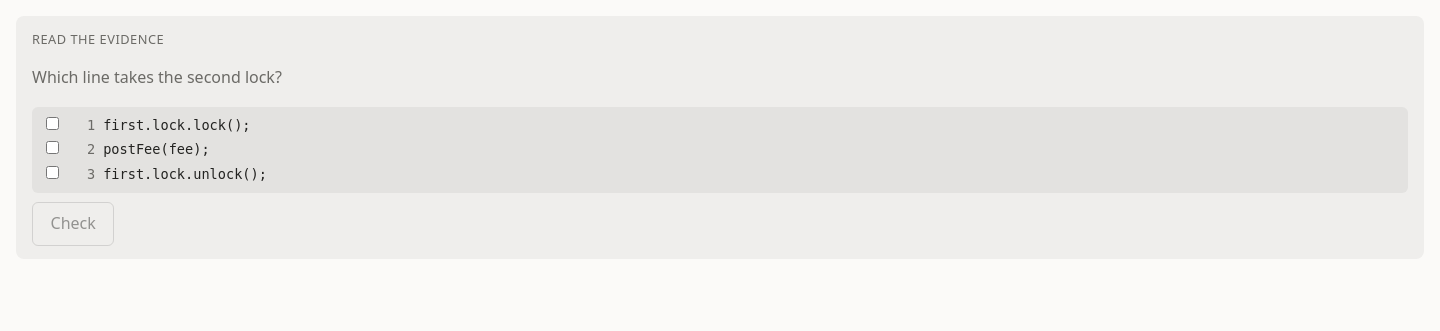
Scenario: marks the right selection and explains
Click the checkbox named "Line 2: postFee(fee);".
click(52, 148)  # box [46, 141, 59, 154]
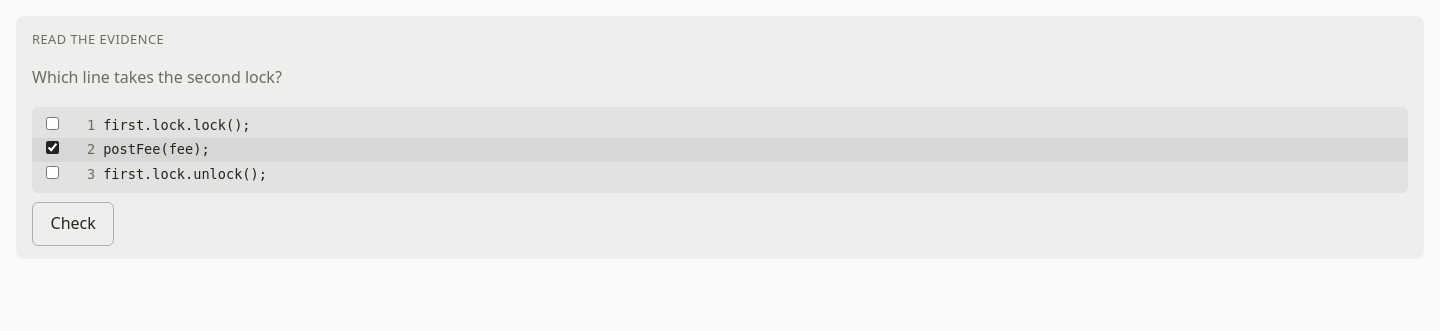
Click the button "Check".
click(73, 224)  # box [32, 202, 114, 246]
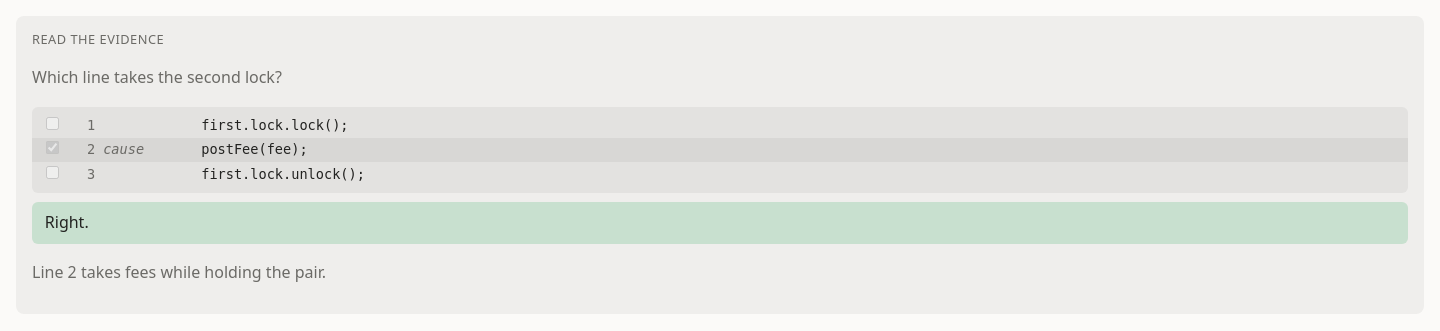
Expected: the message reads "Right.", [45, 211, 89, 233]
Expected: the text "Line 2 takes fees while holding the pair." is shown, [32, 261, 326, 283]
